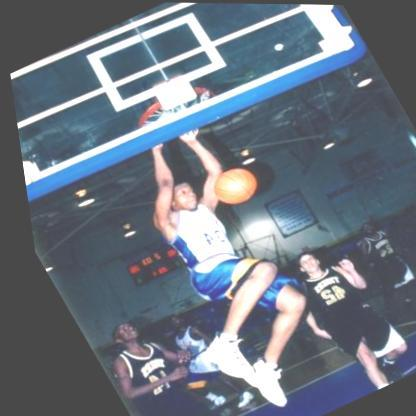basketball: (199, 160, 259, 210)
rim: (122, 76, 218, 132)
